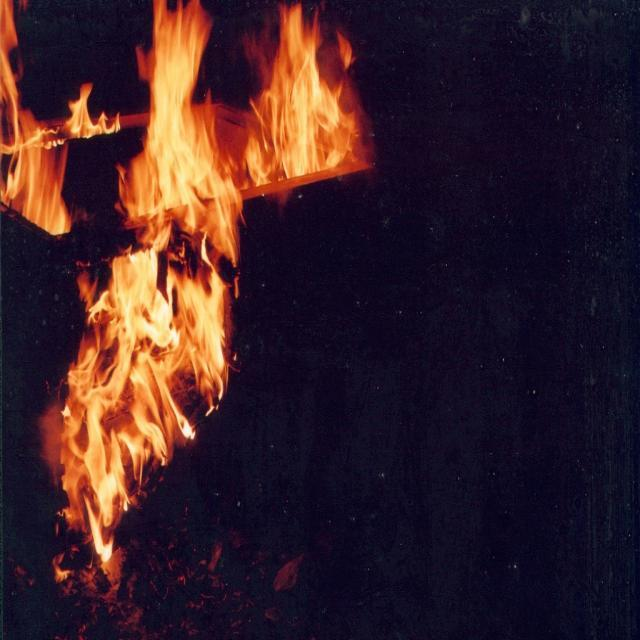Fire: (90, 264, 224, 422), (146, 18, 217, 217), (258, 29, 346, 173), (3, 112, 71, 220)
